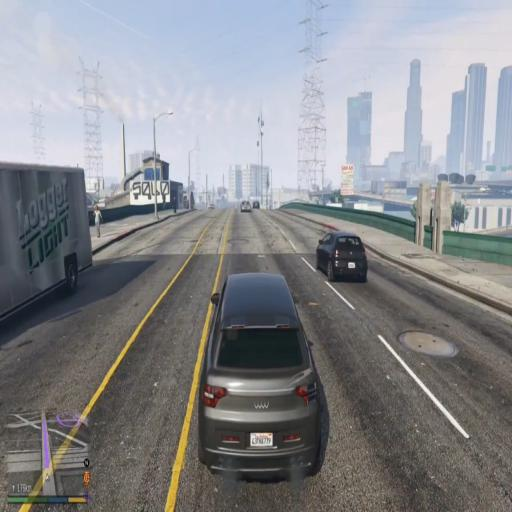Cars: (194, 260, 327, 490), (310, 224, 381, 291)
People: (90, 200, 111, 243), (172, 195, 179, 217)
Trucks: (0, 139, 94, 344)
